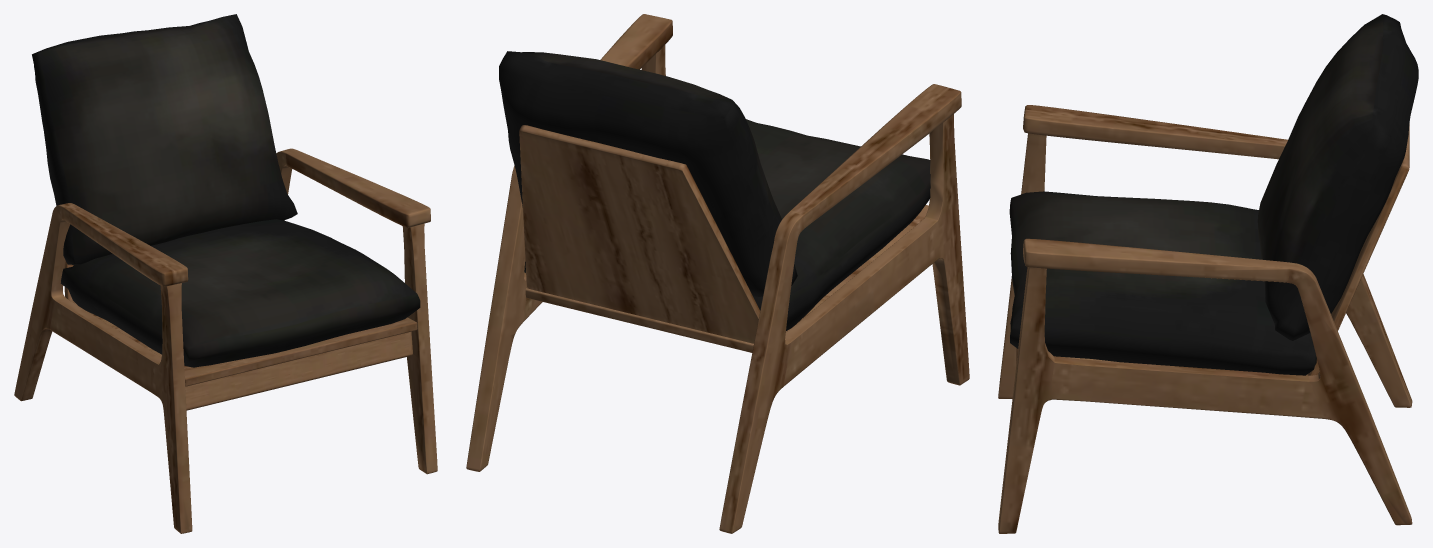
File: modern_arm_chair_01.glb
3 renders of one model, left to right at view 1: azimuth 30°, elevation 25°; view 2: azimuth 150°, elevation 25°; view 3: azimuth 270°, elevation 25°, orthographic. The views are drawn at different scales.
Parts seen in each view (by area): view 1: modern_arm_chair_01; view 2: modern_arm_chair_01; view 3: modern_arm_chair_01.
Part boxes in pixels (x1,y1,x2,y2): modern_arm_chair_01: (14,14,437,533); modern_arm_chair_01: (466,14,969,533); modern_arm_chair_01: (998,14,1418,533).
Bounding box in the file's own units: 0.8203 × 1.02 × 0.9865.
2 materials, 2 textured.
